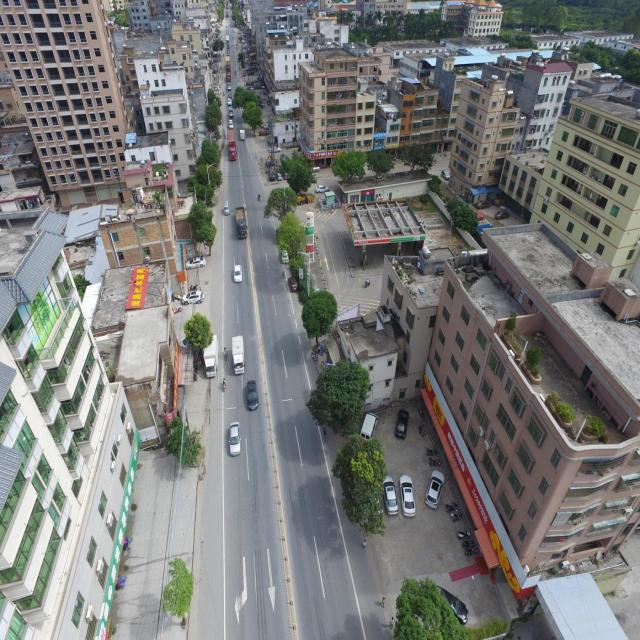car: (382, 476, 399, 516), (228, 421, 241, 456), (394, 409, 408, 438), (246, 380, 258, 410), (233, 265, 242, 282)
person: (389, 616, 394, 629)
tree: (331, 434, 387, 544), (305, 358, 370, 436), (392, 576, 469, 640), (161, 556, 194, 626), (300, 289, 338, 348), (163, 416, 201, 471), (183, 312, 212, 377), (280, 148, 314, 196), (263, 186, 298, 222), (330, 149, 367, 182), (399, 141, 434, 172), (366, 147, 395, 180), (241, 100, 263, 136), (524, 346, 542, 382)
